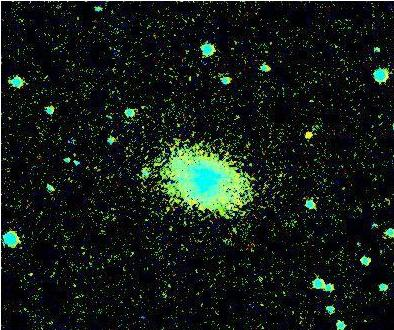star: (293, 124, 323, 154)
